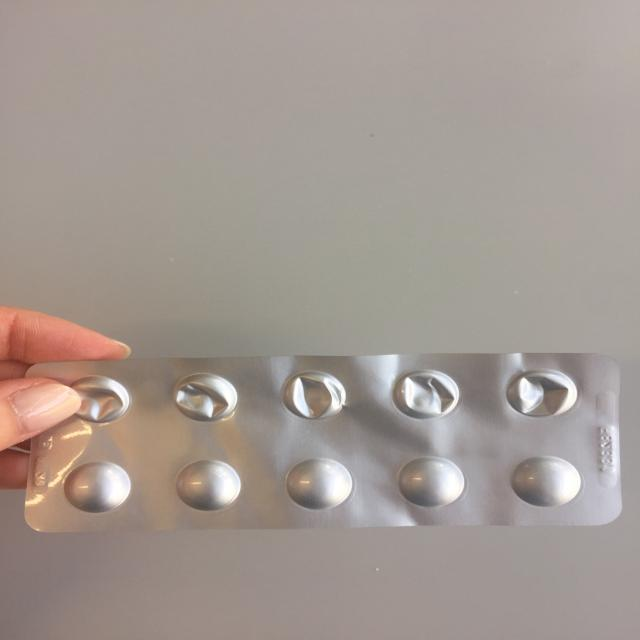Empty: (165, 371, 248, 426), (387, 369, 469, 423), (504, 367, 582, 421), (278, 369, 355, 423), (59, 376, 135, 423)
Pill: (506, 453, 588, 509), (284, 454, 359, 513), (63, 459, 138, 517), (172, 458, 246, 513), (396, 453, 468, 509)
